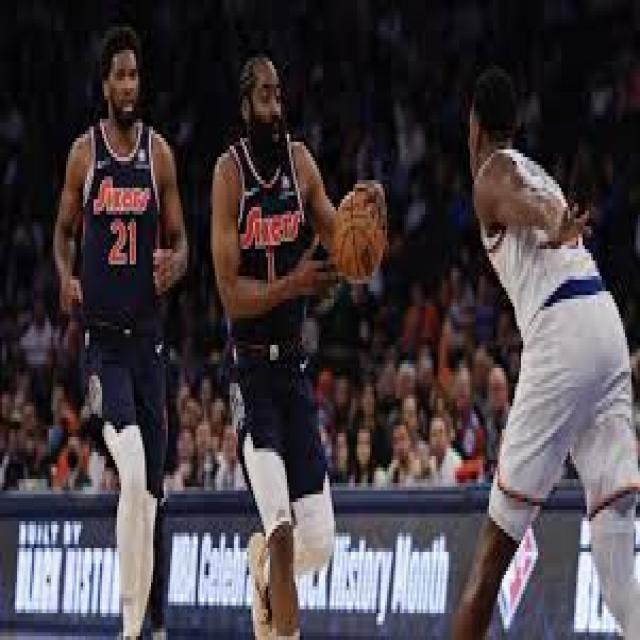rim: (332, 192, 385, 284)
